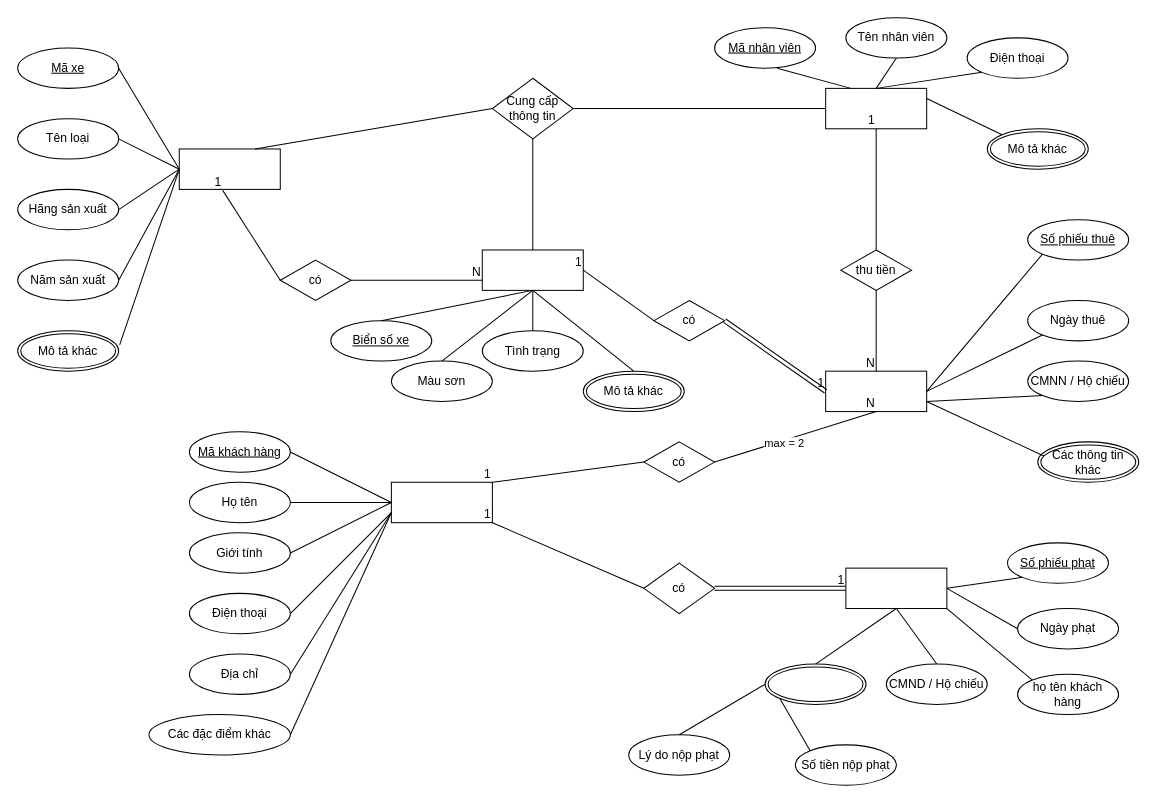
This 1156x803 diagram has some shape labels left out. Here are the shapes that lost their labels. From the top down, the box of each, then its label:
(825, 87, 927, 129): Nhân Viên
(178, 148, 280, 189): Loại xe
(481, 249, 583, 290): Xe
(825, 370, 927, 412): Phiếu cho thuê
(390, 481, 492, 523): Khách hàng
(845, 567, 947, 609): Phiếu nộp phạt
(764, 663, 866, 704): Khoản nộp phạt
